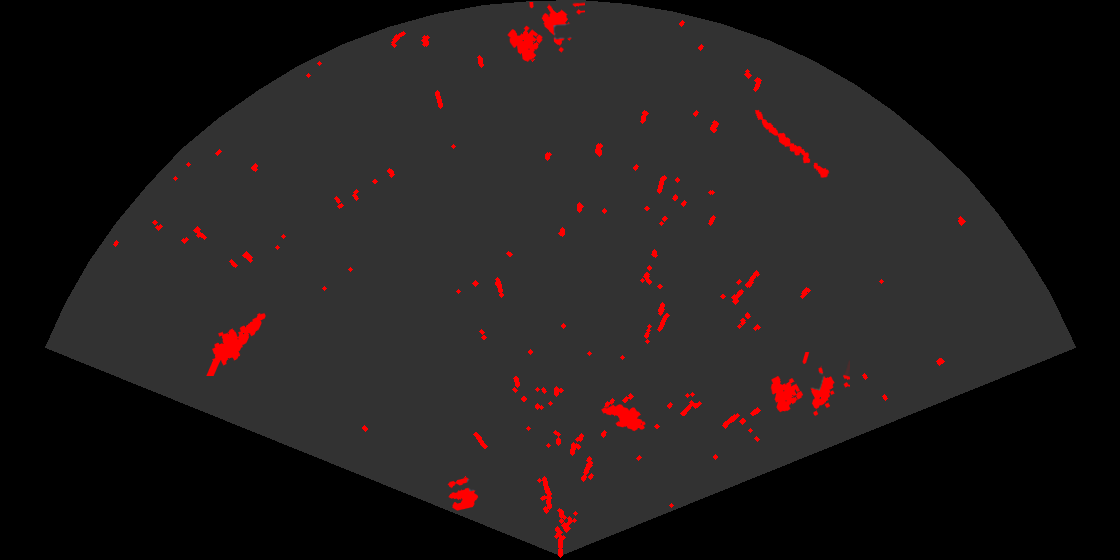AUV: (600, 403, 647, 433)
ball: (446, 476, 480, 512)
cage: (769, 352, 850, 418), (506, 2, 585, 63)
chain: (753, 108, 831, 179)
frogman: (205, 311, 267, 376)
